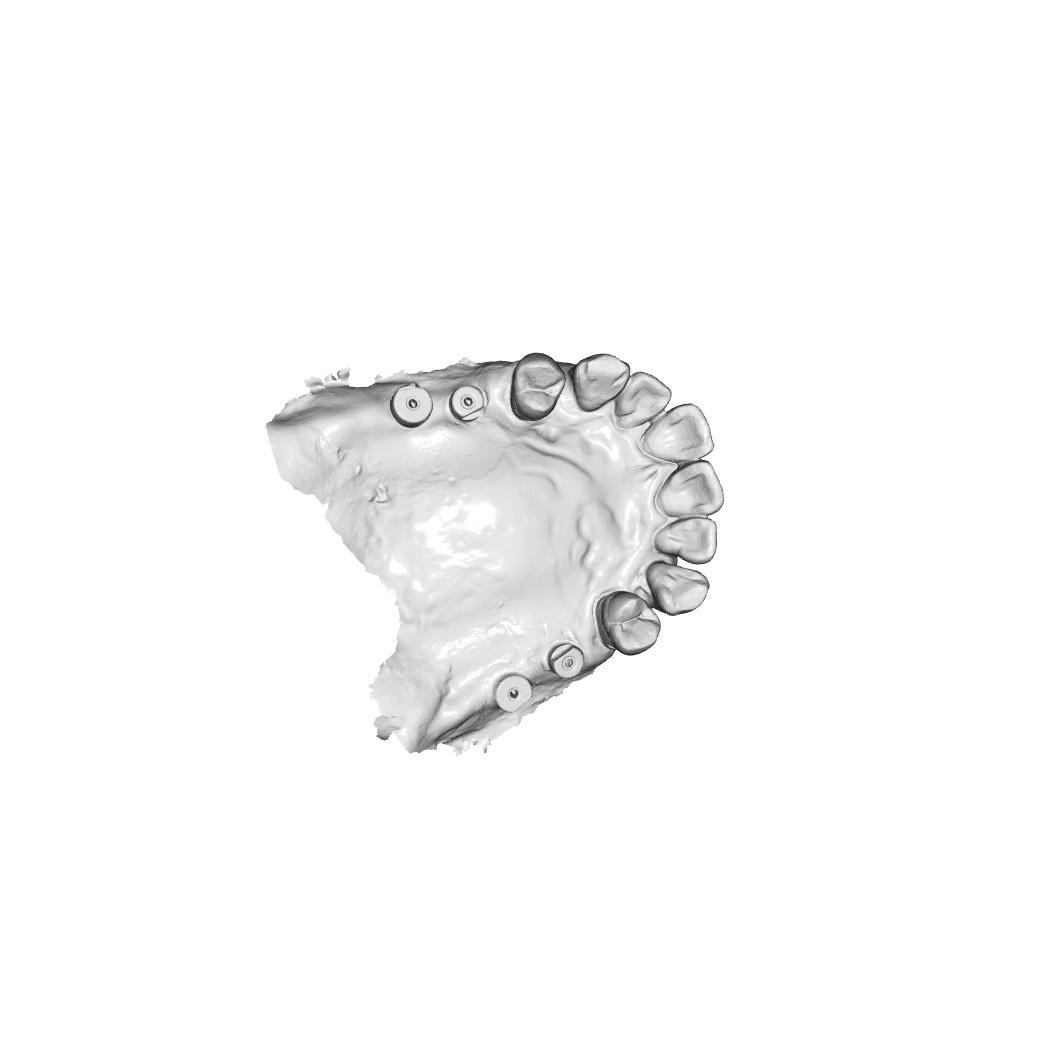canine: (574, 350, 629, 414), (646, 561, 712, 614)
implant: (392, 382, 436, 429), (494, 672, 538, 713), (548, 642, 585, 682), (451, 384, 488, 420)
incisor: (657, 458, 728, 523), (642, 404, 715, 463), (616, 370, 675, 427), (656, 521, 718, 566)
premolar: (509, 354, 567, 425), (602, 592, 663, 656)
